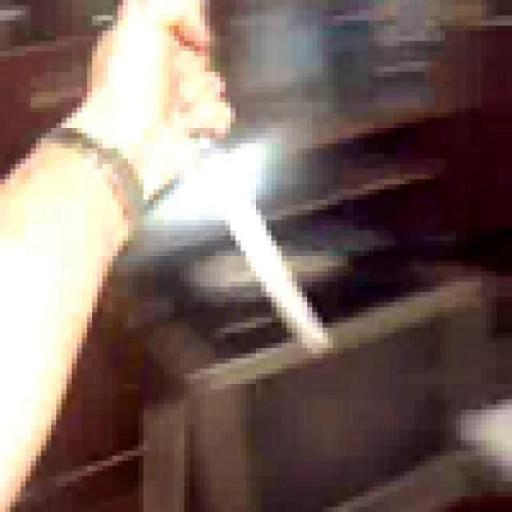knife: (118, 16, 333, 364)
